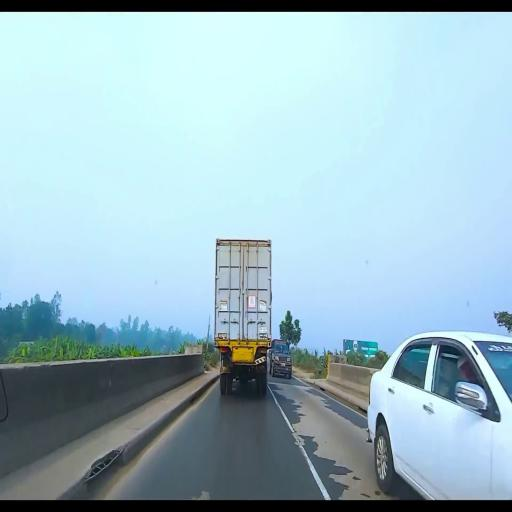car: (366, 329, 512, 497)
suv: (272, 339, 294, 377)
truck: (212, 233, 271, 398)
